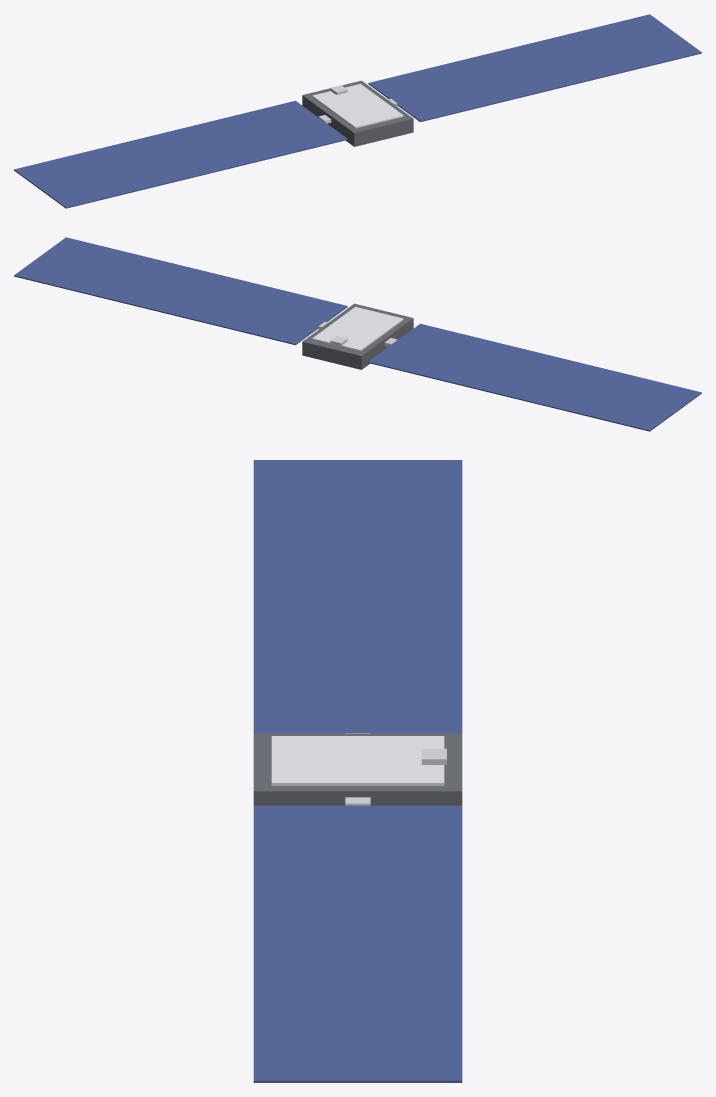
File: starlink_flat.glb
3 renders of one model, top to bottom at view 1: azimuth 30°, elevation 25°; view 2: azimuth 150°, elevation 25°; view 3: azimuth 270°, elevation 25°, orthographic. The views are drawn at different scales.
Visible parts, largest first — view 1: starlink_flat; view 2: starlink_flat; view 3: starlink_flat.
Part boxes in pixels (x1,y1,x2,y2): starlink_flat: (14,14,701,208); starlink_flat: (14,237,701,431); starlink_flat: (253,460,462,1082).
Bounding box in the file's own units: 28.9 × 0.82 × 4.1.
